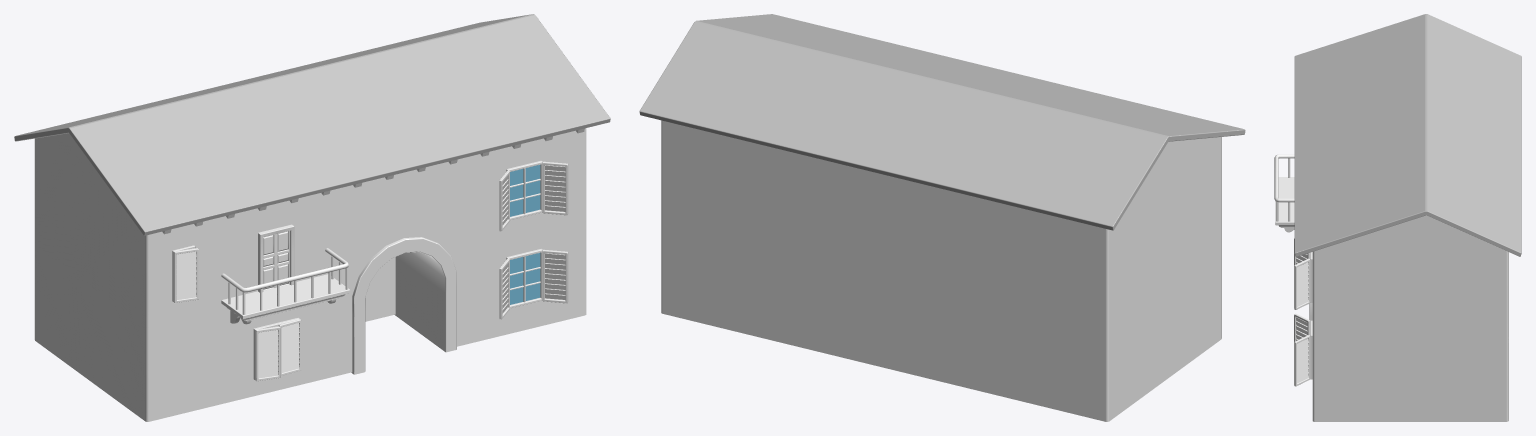
Rendered from BackgroundBuilding2.fbx.
3 renders of one model, left to right at view 1: azimuth 30°, elevation 25°; view 2: azimuth 150°, elevation 25°; view 3: azimuth 270°, elevation 25°, orthographic. The views are drawn at different scales.
Parts seen in each view (by area): view 1: Cube.045; view 2: Cube.045; view 3: Cube.045.
Part boxes in pixels (x1,y1,x2,y2): Cube.045: (14, 14, 610, 421); Cube.045: (639, 14, 1245, 421); Cube.045: (1274, 14, 1521, 421).
Size of the model in its own units: 1904 by 978 by 1007.
